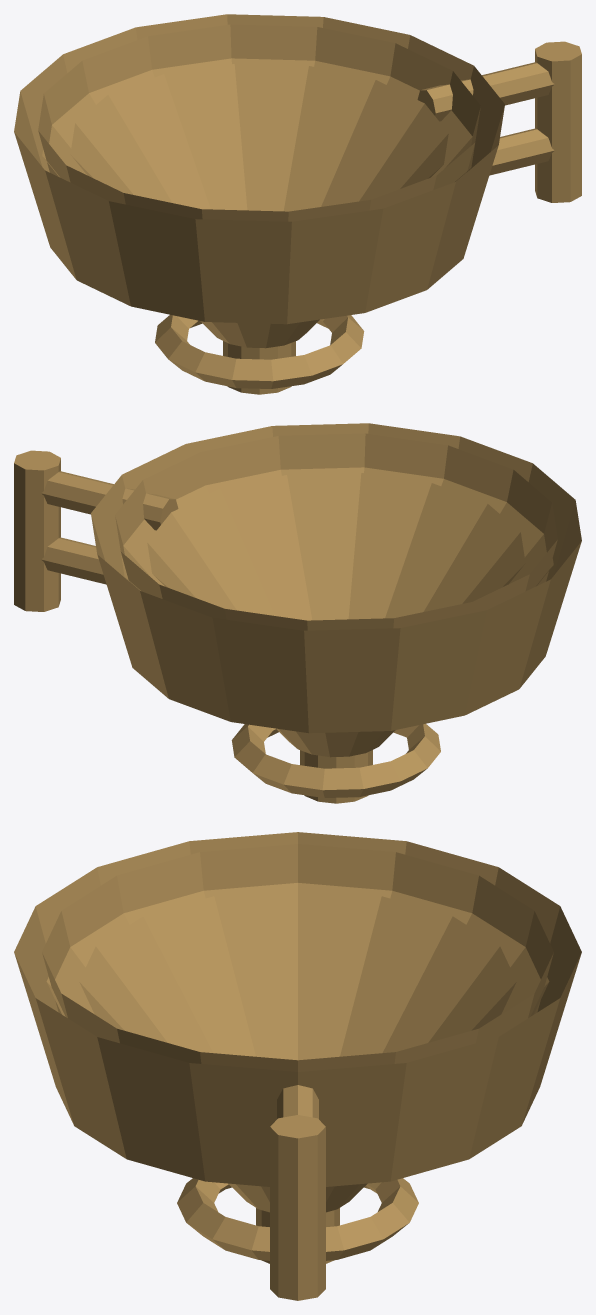
The model's file is traditional_filter.glb.
The picture shows the model from 3 angles, top to bottom: view 1: azimuth 30°, elevation 25°; view 2: azimuth 150°, elevation 25°; view 3: azimuth 270°, elevation 25°; orthographic projection. The views are drawn at different scales.
Visible parts, largest first — view 1: FilterCup, FunnelBasket, StabilityFoot, GripHandle, HandleBridgeUpper, HandleBridgeLower, BottomSpout; view 2: FilterCup, FunnelBasket, StabilityFoot, GripHandle, HandleBridgeUpper, HandleBridgeLower, BottomSpout; view 3: FilterCup, FunnelBasket, GripHandle, StabilityFoot, HandleBridgeUpper.
Part boxes in pixels (x1,y1,x2,y2): FilterCup: (14, 14, 504, 324); FunnelBasket: (42, 58, 474, 348); StabilityFoot: (155, 314, 364, 388); GripHandle: (535, 41, 581, 202); HandleBridgeUpper: (417, 62, 554, 121); HandleBridgeLower: (489, 128, 554, 175); BottomSpout: (223, 341, 295, 394); FilterCup: (91, 423, 581, 733); FunnelBasket: (121, 467, 553, 757); StabilityFoot: (231, 723, 440, 797); GripHandle: (14, 450, 60, 611); HandleBridgeUpper: (41, 471, 178, 530); HandleBridgeLower: (41, 537, 106, 584); BottomSpout: (300, 750, 372, 803); FilterCup: (14, 832, 581, 1186); FunnelBasket: (46, 883, 549, 1212); GripHandle: (270, 1115, 325, 1300); StabilityFoot: (177, 1178, 418, 1260); HandleBridgeUpper: (277, 1085, 318, 1118).
Bounding box in the file's own units: 0.304 × 0.142 × 0.244.
